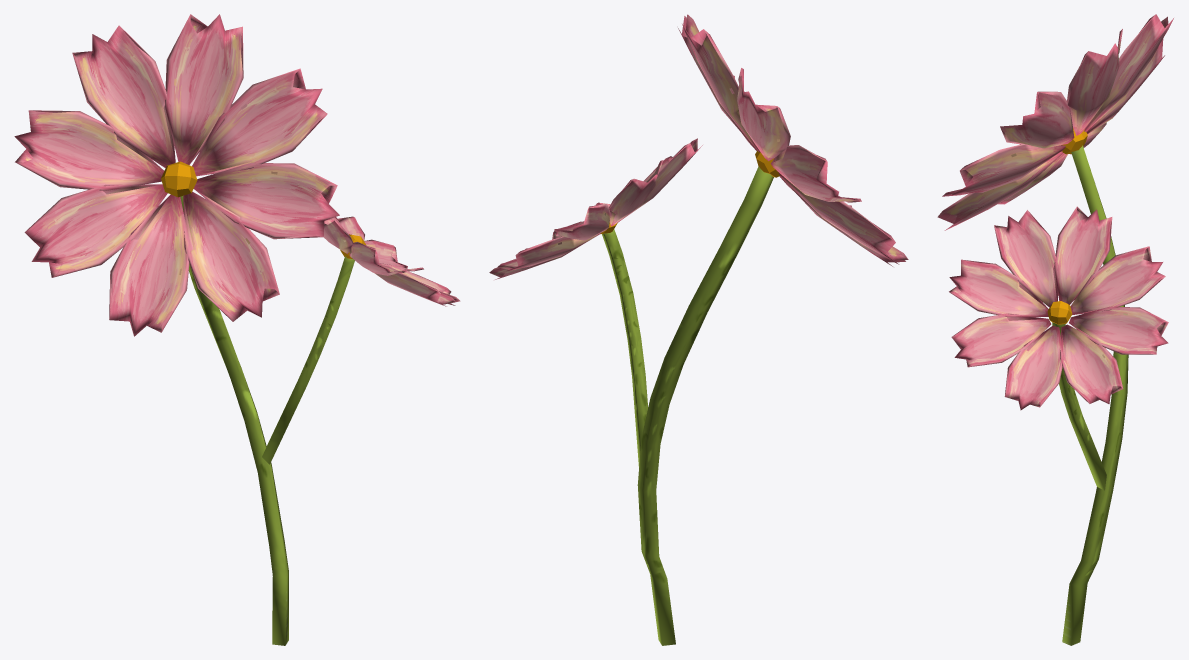
File: Flor_2.fbx
3 views of the same model, side by side, from view 1: azimuth 30°, elevation 25°; view 2: azimuth 150°, elevation 25°; view 3: azimuth 270°, elevation 25° (orthographic). The views are drawn at different scales.
Parts seen in each view (by area): view 1: Flor2.002; view 2: Flor2.002; view 3: Flor2.002.
Part boxes in pixels (x1,y1,x2,y2): Flor2.002: (14, 14, 460, 645); Flor2.002: (489, 14, 908, 645); Flor2.002: (937, 14, 1173, 645).
Size of the model in its own units: 1.42 by 2.16 by 0.7945.
